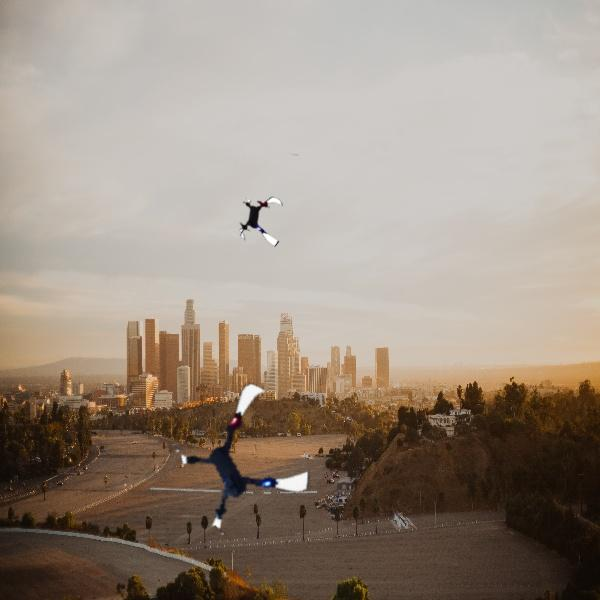drone: (174, 395, 310, 531), (234, 192, 291, 249)
